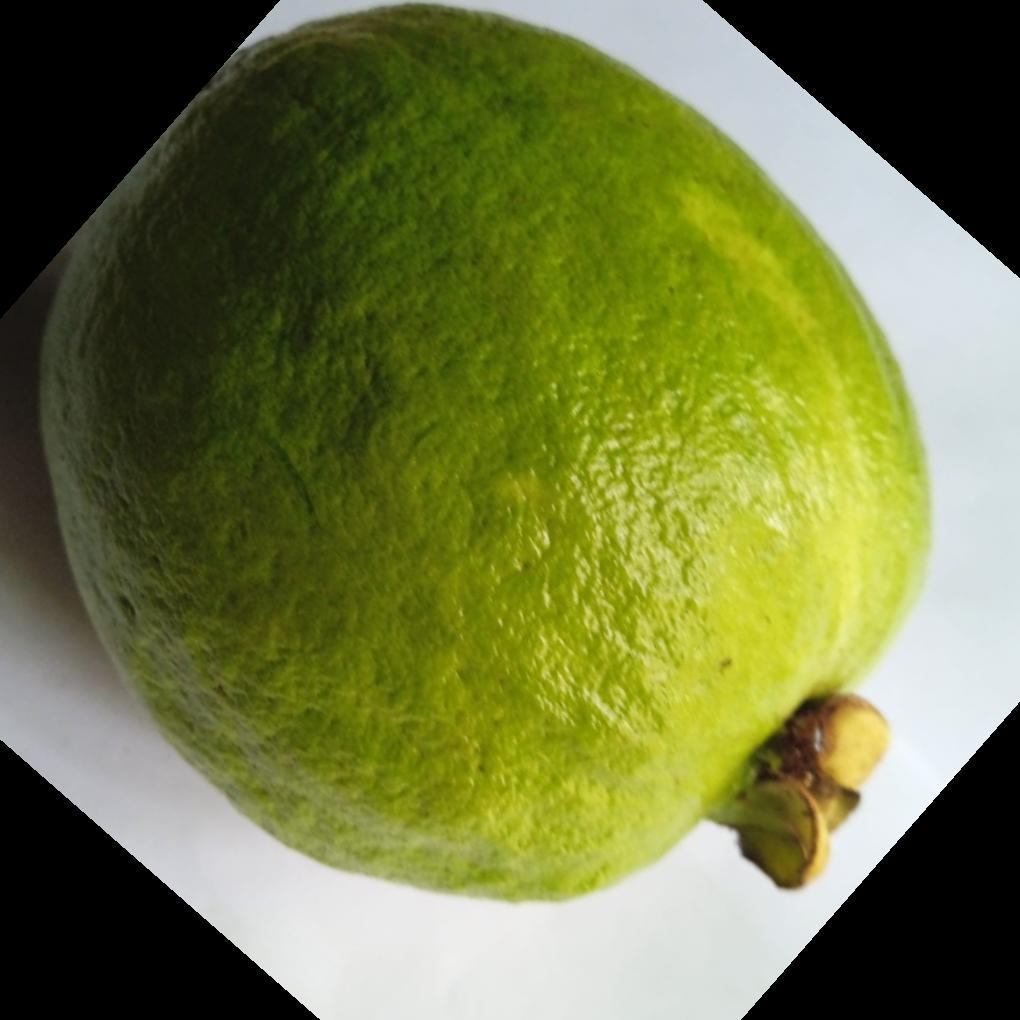FreshGuava: (34, 4, 934, 909)
